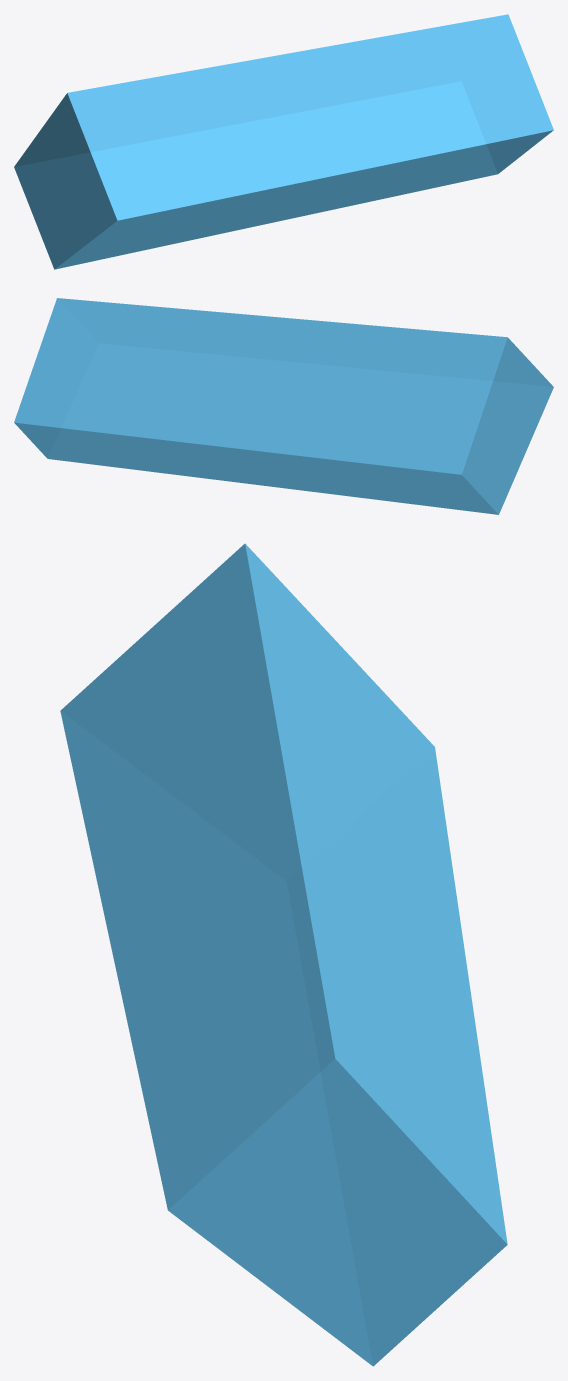
File: Event_420604493_HErechit_34.fbx
3 views of the same model, one above another, from view 1: azimuth 30°, elevation 25°; view 2: azimuth 150°, elevation 25°; view 3: azimuth 270°, elevation 25° (orthographic). The views are drawn at different scales.
Visible parts, largest first — view 1: Model; view 2: Model; view 3: Model.
Part boxes in pixels (bbox=[...]): Model: bbox=[14, 14, 553, 269]; Model: bbox=[14, 298, 553, 514]; Model: bbox=[60, 543, 507, 1366].
Bounding box in the file's own units: 1.1 × 0.4973 × 0.4973.
